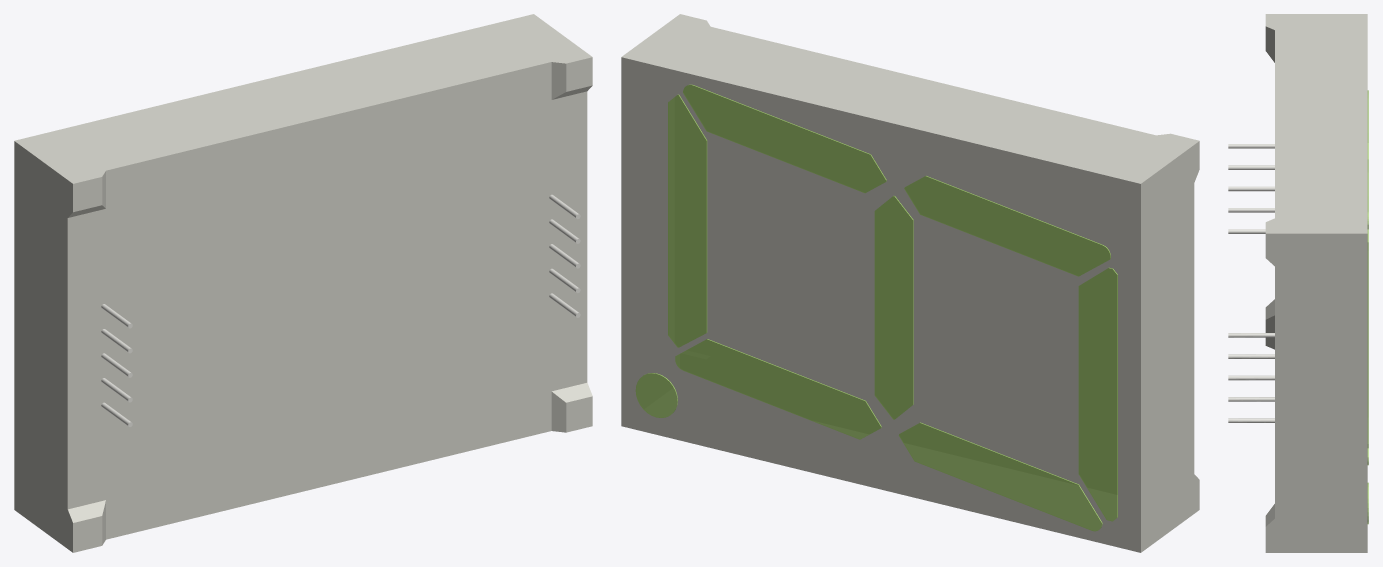
File: SBC18-11SURKCGKWA.glb
3 renders of one model, left to right at view 1: azimuth 30°, elevation 25°; view 2: azimuth 150°, elevation 25°; view 3: azimuth 270°, elevation 25°, orthographic. The views are drawn at different scales.
Visible parts, largest first — view 1: Shape_IndexedFaceSet.002, Shape_IndexedFaceSet.031, Shape_IndexedFaceSet.014, Shape_IndexedFaceSet.005, Shape_IndexedFaceSet.010, Shape_IndexedFaceSet.004, Shape_IndexedFaceSet.003, Shape_IndexedFaceSet.036, Shape_IndexedFaceSet.035, Shape_IndexedFaceSet.032, Shape_IndexedFaceSet.033; view 2: Shape_IndexedFaceSet.034, Shape_IndexedFaceSet.031, Shape_IndexedFaceSet.014, Shape_IndexedFaceSet.099, Shape_IndexedFaceSet.103, Shape_IndexedFaceSet.104, Shape_IndexedFaceSet.102, Shape_IndexedFaceSet.106, Shape_IndexedFaceSet.101, Shape_IndexedFaceSet.100, Shape_IndexedFaceSet.105; view 3: Shape_IndexedFaceSet.012, Shape_IndexedFaceSet.031, Shape_IndexedFaceSet.080, Shape_IndexedFaceSet.029, Shape_IndexedFaceSet.008, Shape_IndexedFaceSet.019, Shape_IndexedFaceSet.022, Shape_IndexedFaceSet.001, Shape_IndexedFaceSet.006, Shape_IndexedFaceSet.007, Shape_IndexedFaceSet.009, Shape_IndexedFaceSet.017 (+2 smaller).
Part boxes in pixels (<box>): Shape_IndexedFaceSet.002: <box>106,100,551,499</box>; Shape_IndexedFaceSet.031: <box>14,14,592,183</box>; Shape_IndexedFaceSet.014: <box>14,141,72,552</box>; Shape_IndexedFaceSet.005: <box>106,391,551,539</box>; Shape_IndexedFaceSet.010: <box>106,62,551,208</box>; Shape_IndexedFaceSet.004: <box>67,209,105,509</box>; Shape_IndexedFaceSet.003: <box>551,91,587,391</box>; Shape_IndexedFaceSet.036: <box>73,516,102,552</box>; Shape_IndexedFaceSet.035: <box>73,177,102,212</box>; Shape_IndexedFaceSet.032: <box>566,396,592,432</box>; Shape_IndexedFaceSet.033: <box>566,57,592,91</box>; Shape_IndexedFaceSet.034: <box>621,57,1140,552</box>; Shape_IndexedFaceSet.031: <box>621,14,1199,183</box>; Shape_IndexedFaceSet.014: <box>1141,141,1199,552</box>; Shape_IndexedFaceSet.099: <box>1078,268,1117,521</box>; Shape_IndexedFaceSet.103: <box>668,95,706,347</box>; Shape_IndexedFaceSet.104: <box>874,196,912,419</box>; Shape_IndexedFaceSet.102: <box>683,85,886,193</box>; Shape_IndexedFaceSet.106: <box>675,339,880,439</box>; Shape_IndexedFaceSet.101: <box>899,423,1101,531</box>; Shape_IndexedFaceSet.100: <box>904,176,1110,276</box>; Shape_IndexedFaceSet.105: <box>635,373,677,417</box>; Shape_IndexedFaceSet.012: <box>1265,233,1367,552</box>; Shape_IndexedFaceSet.031: <box>1265,14,1367,233</box>; Shape_IndexedFaceSet.080: <box>1367,242,1368,443</box>; Shape_IndexedFaceSet.029: <box>1265,26,1274,62</box>; Shape_IndexedFaceSet.008: <box>1228,375,1274,380</box>; Shape_IndexedFaceSet.019: <box>1228,186,1274,191</box>; Shape_IndexedFaceSet.022: <box>1265,315,1274,349</box>; Shape_IndexedFaceSet.001: <box>1228,333,1274,337</box>; Shape_IndexedFaceSet.006: <box>1228,418,1274,422</box>; Shape_IndexedFaceSet.007: <box>1228,397,1274,401</box>; Shape_IndexedFaceSet.009: <box>1228,354,1274,358</box>; Shape_IndexedFaceSet.017: <box>1228,144,1274,148</box>.
Bounding box in the file's own units: 22.05 × 14.96 × 5.94.
